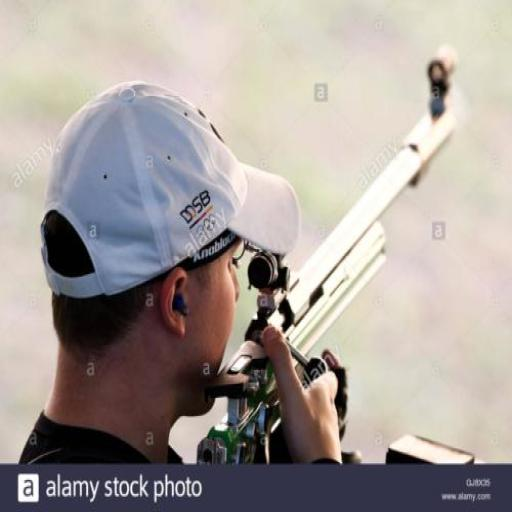shooting: (16, 79, 346, 466)
